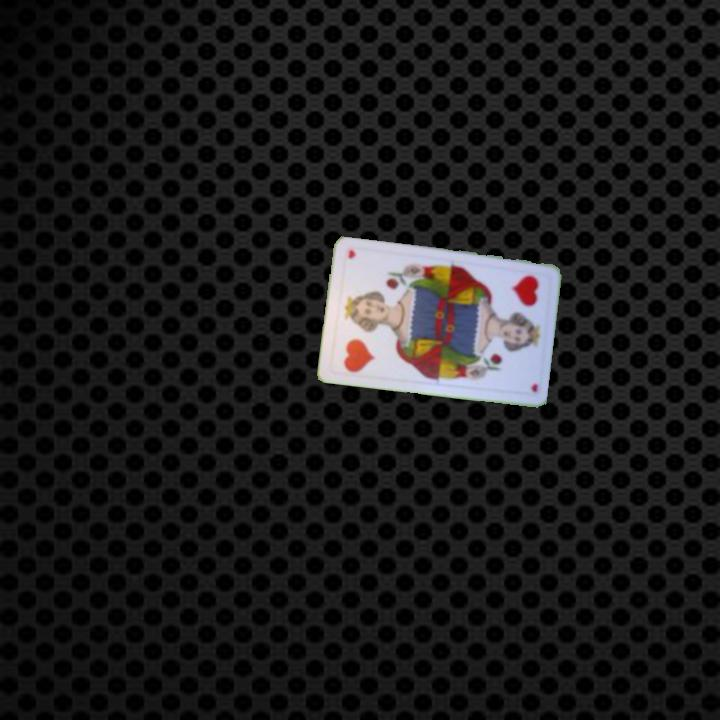h_q.png: (487, 264, 552, 337), (327, 307, 392, 379)
